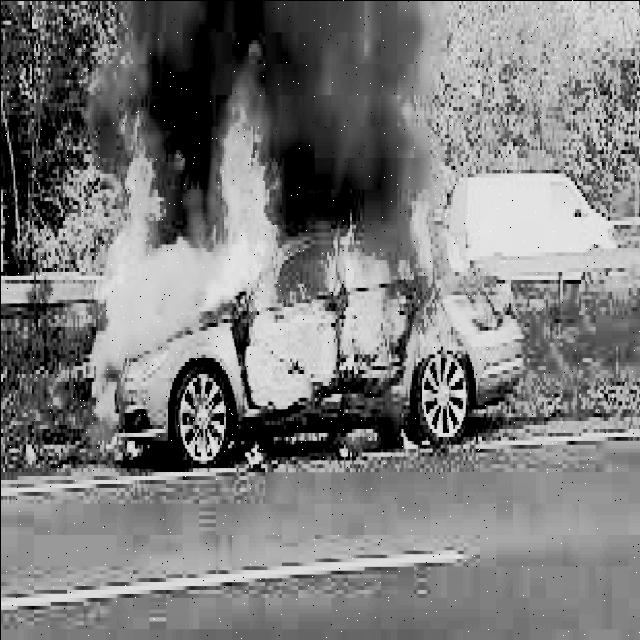api: (86, 29, 284, 304), (282, 178, 464, 366)
